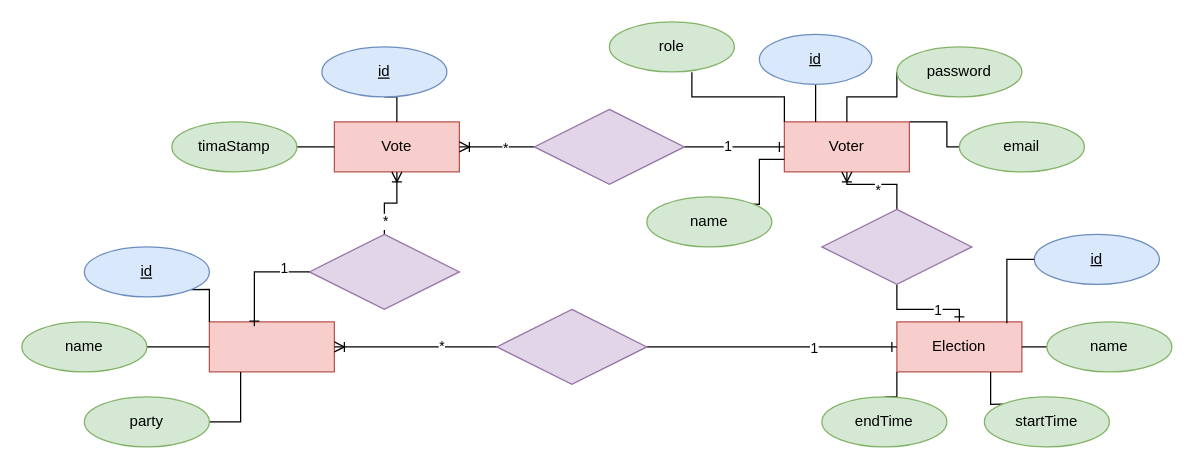
Image size: 1194x469. Some labels were removed from this diagram. Here are the shapes that lost their labels. From the top down, the centre of each, then its label:
(608,146): cast
(896,246): involved
(383,271): receives
(271,346): Candidate
(571,346): participates
